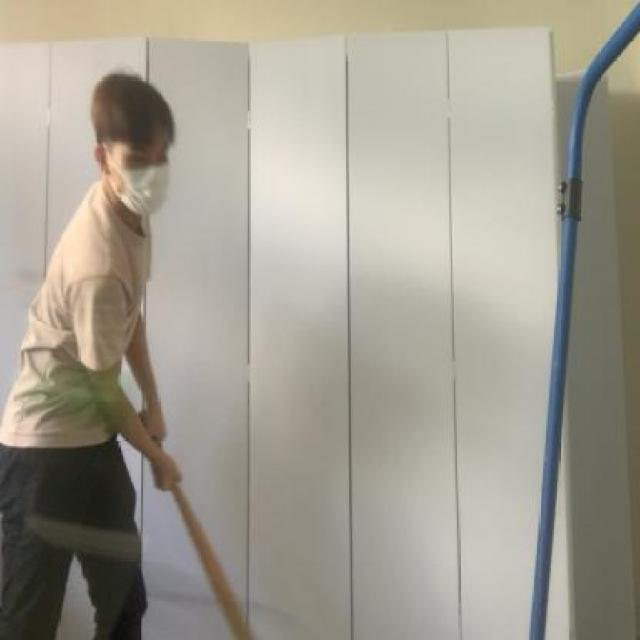baseball: (26, 360, 154, 426)
